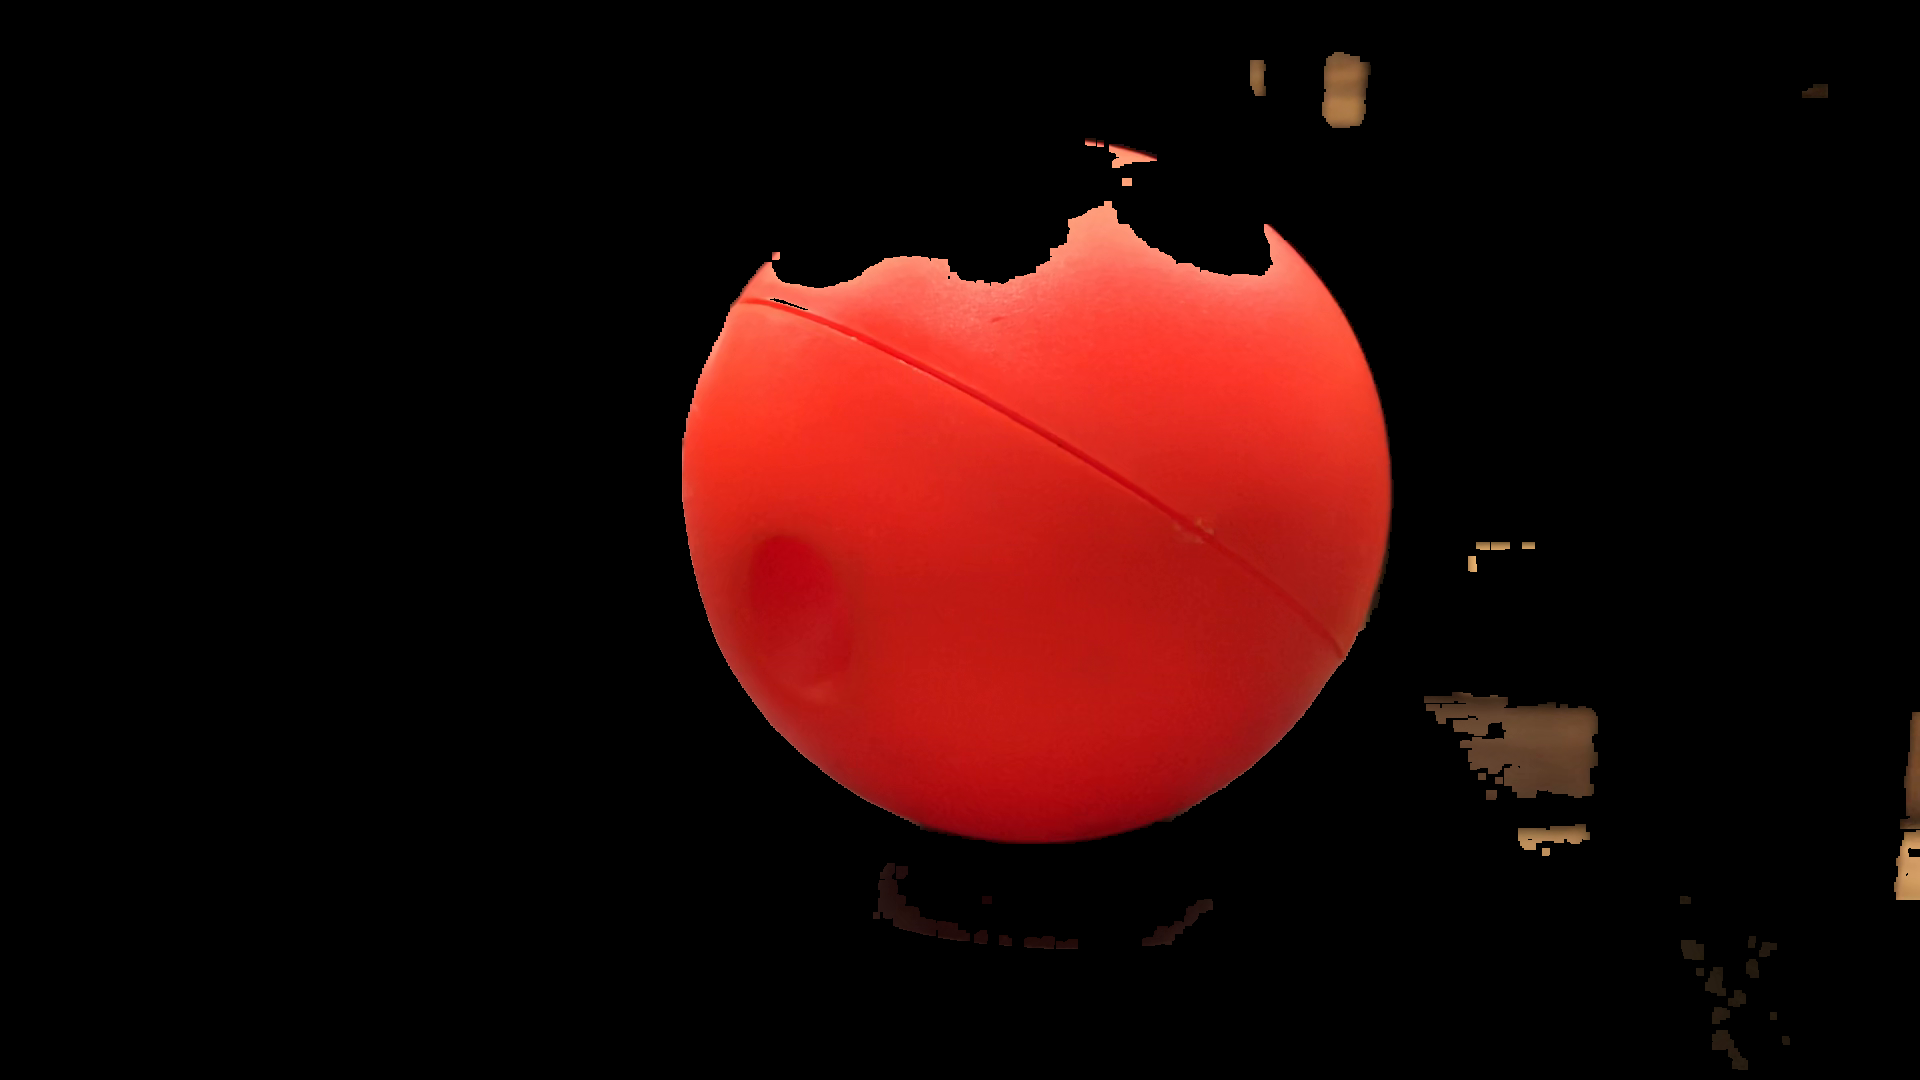Ball: (680, 138, 1396, 843)
